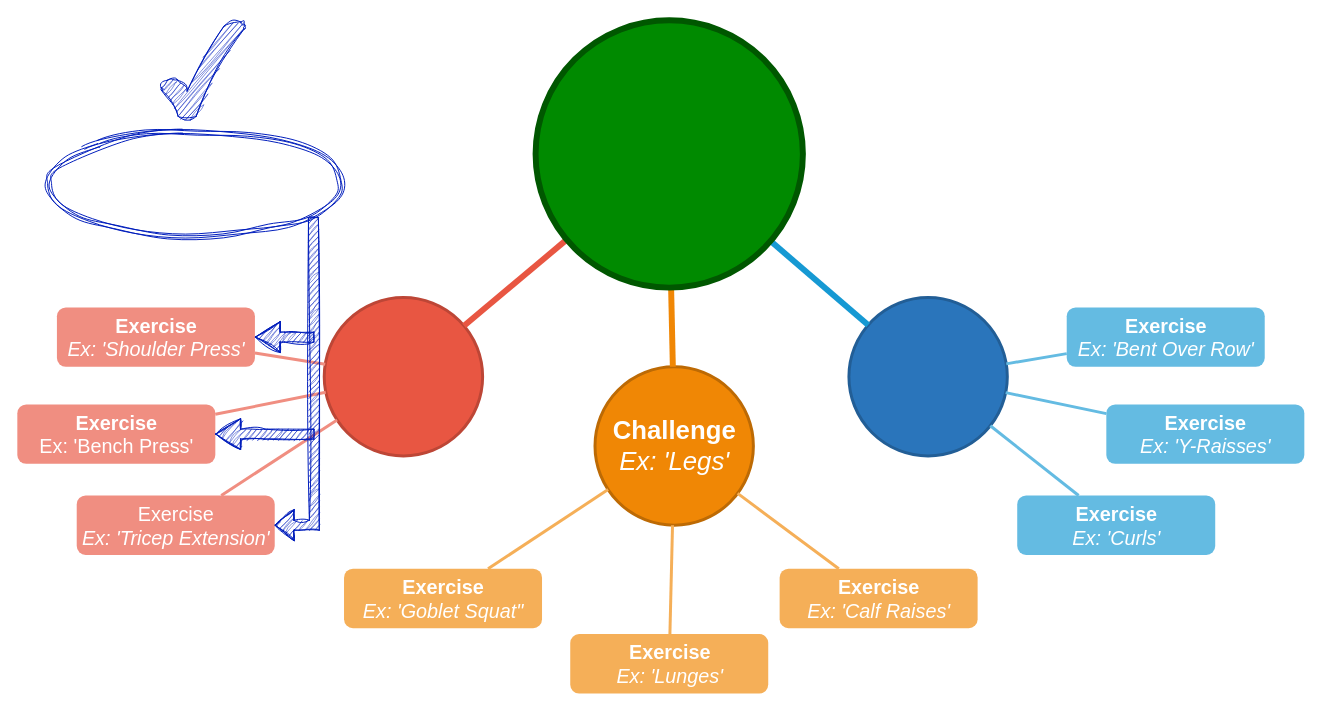
Some shapes in this 1321 by 710 pixel diagram are drawn without their labels. The centre of each missing label's shape, as x and y in pixels:
"Challenge Ex: 'Pull'" belongs at point (927, 376).
"Challenge Ex: 'Push'" belongs at point (403, 376).
"Complete all of the EXERCISES to accomplish the CHALLENGE!" belongs at point (195, 183).
"PATH Ex: 'Dumbbell Pro'" belongs at point (668, 153).
